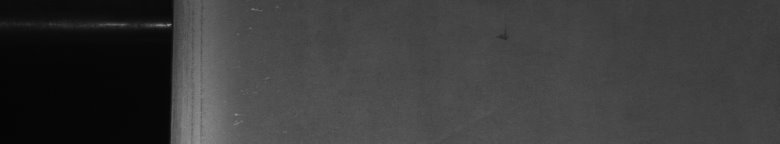fi: (496, 33, 508, 40)
